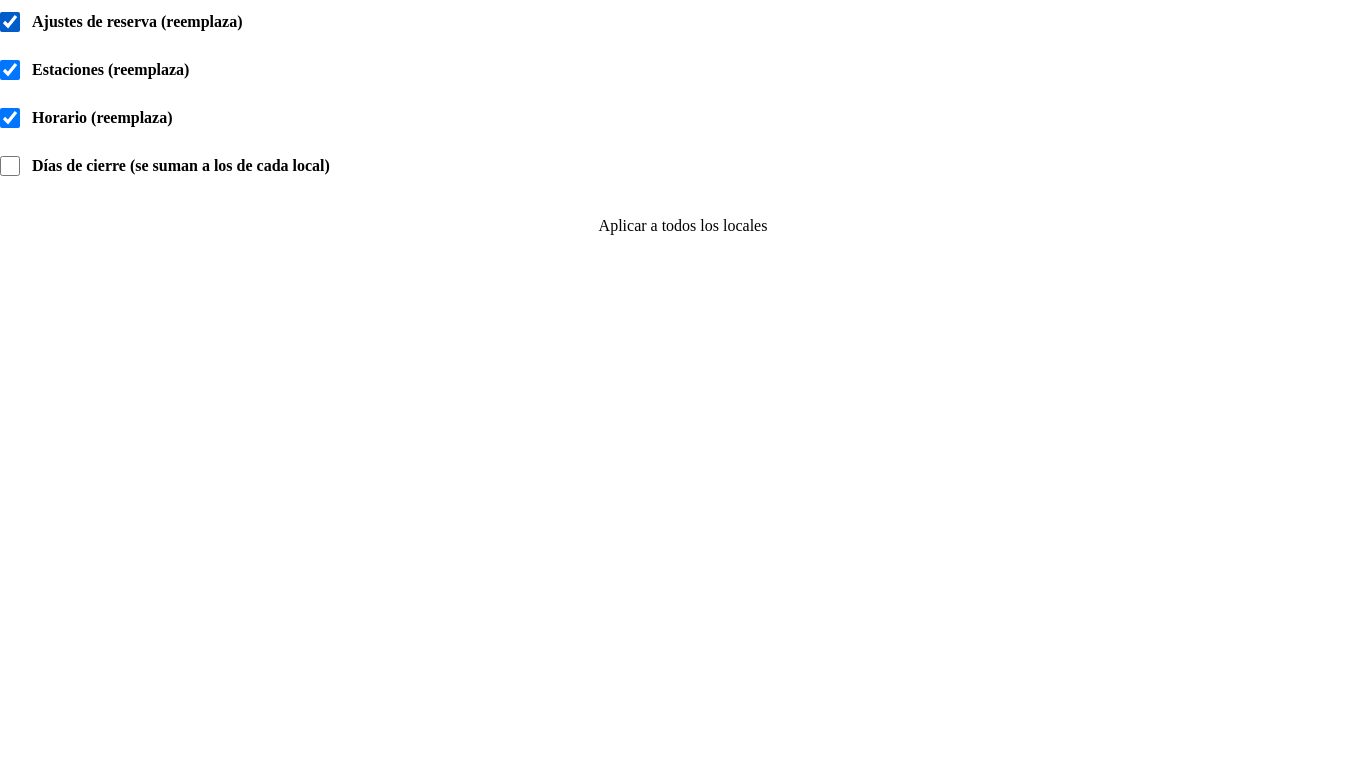
Test case: diálogos de confirmación › aplicar a todos los locales: cancelar o confirmar
The width and height of the screenshot is (1366, 768).
Click the button "Aplicar a todos los locales": (683, 226) [0,204,1365,248]
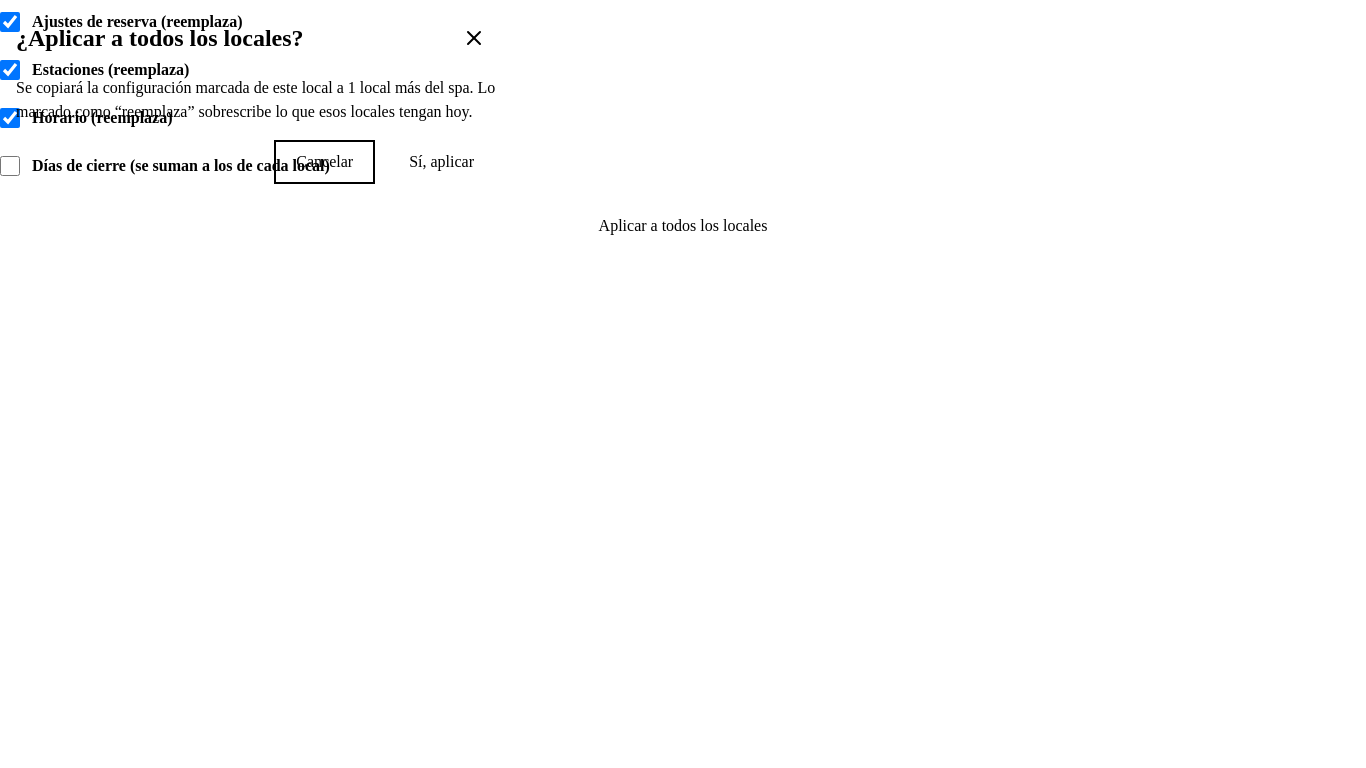
Result: the dialog "¿Aplicar a todos los locales?" shows "1 local más" at [0,0,512,200]
Click the button "Cancelar": (325, 162) [274,140,375,184]
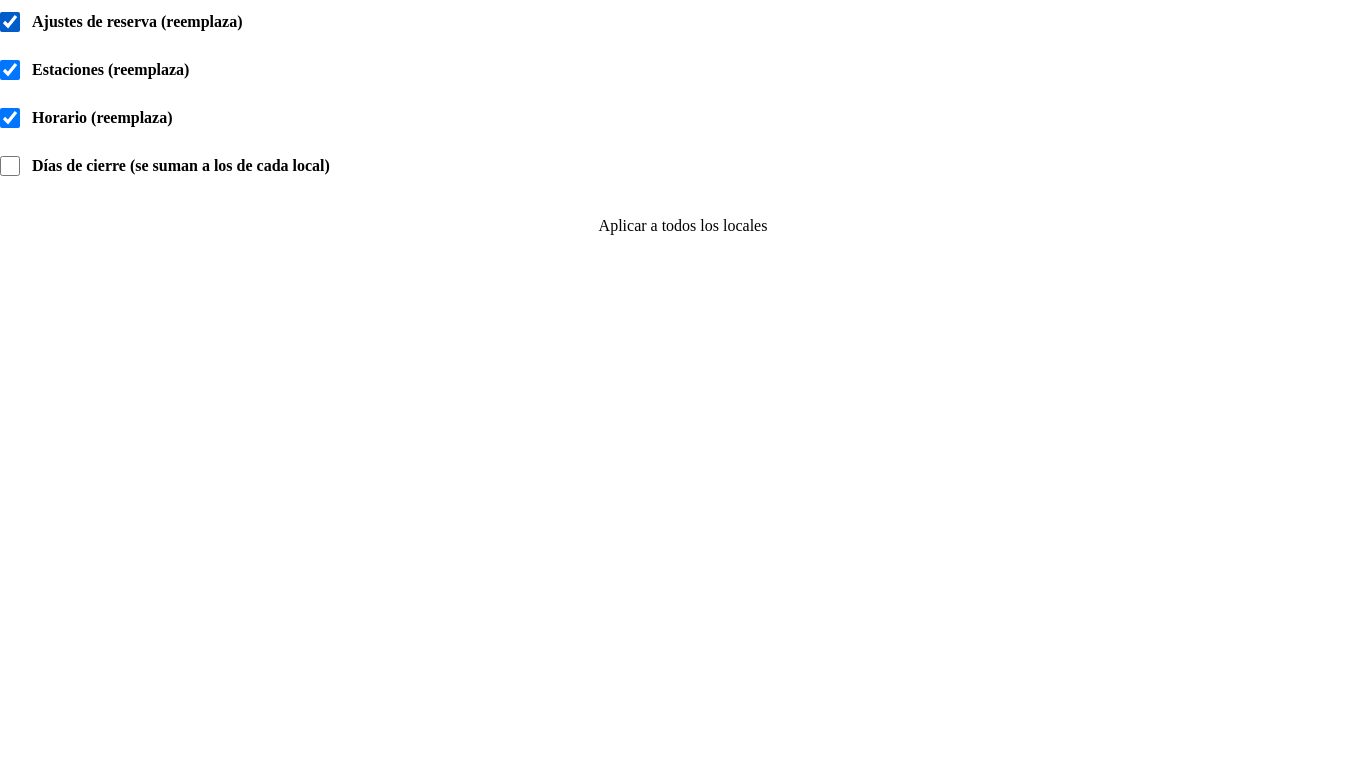
Result: the dialog is gone
Click the button "Aplicar a todos los locales": (683, 226) [0,204,1365,248]
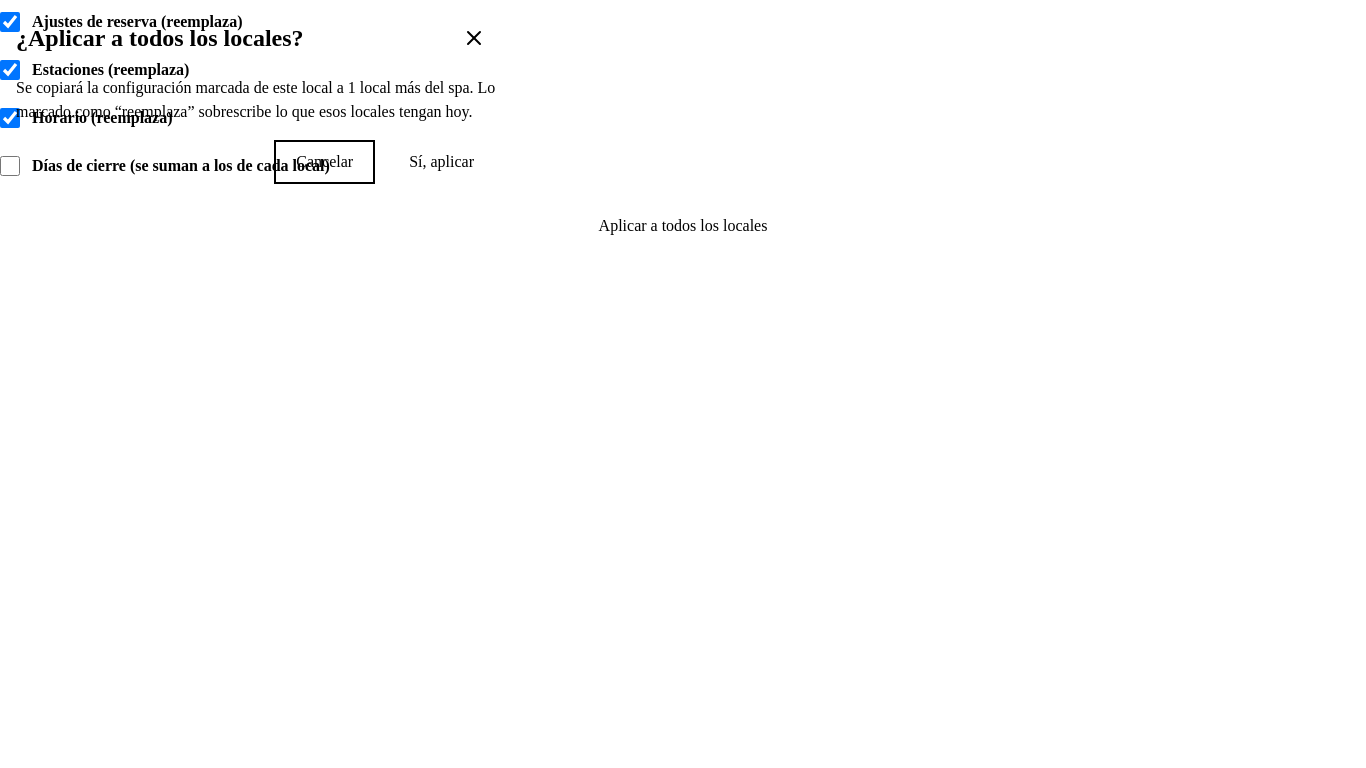
Click the button "Sí, aplicar": (442, 162) [387,140,496,184]
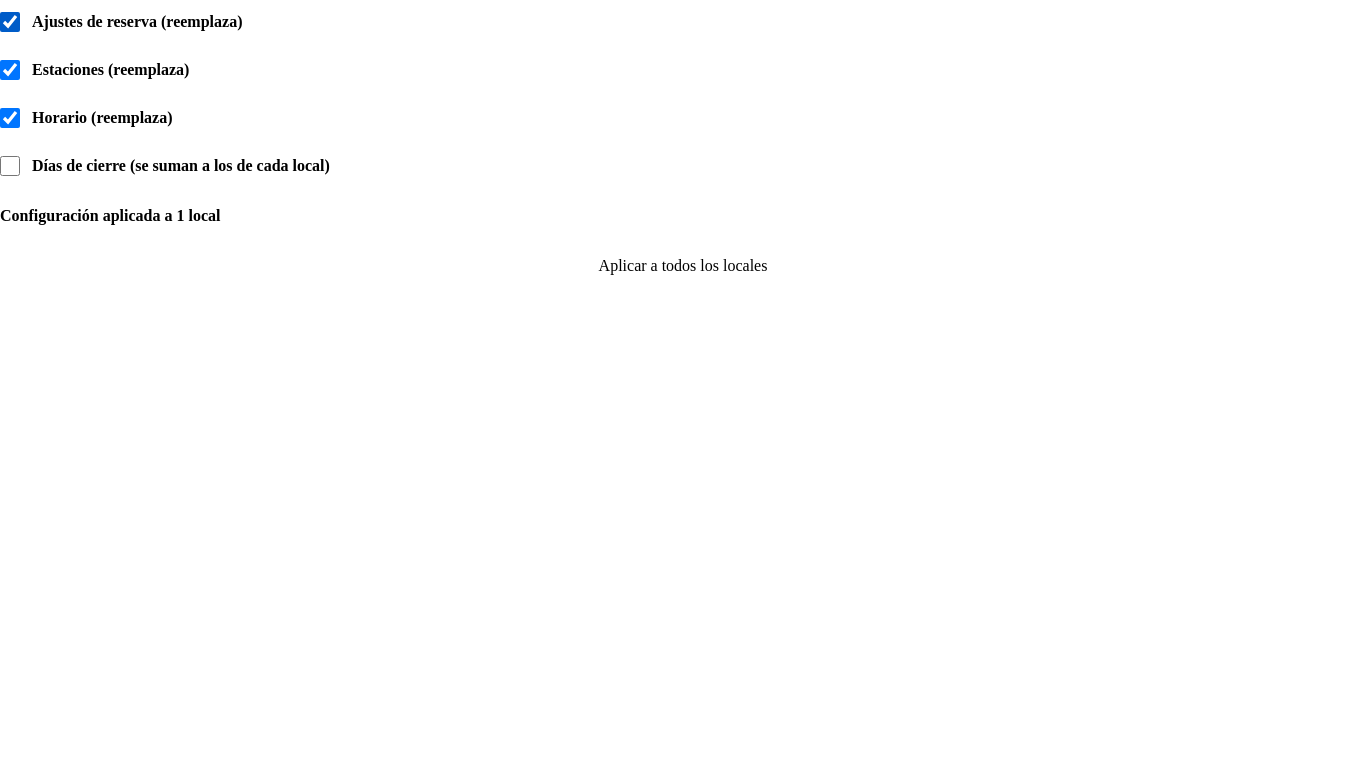
Result: the text "Configuración aplicada a 1 local" is shown at [0,207,220,224]
